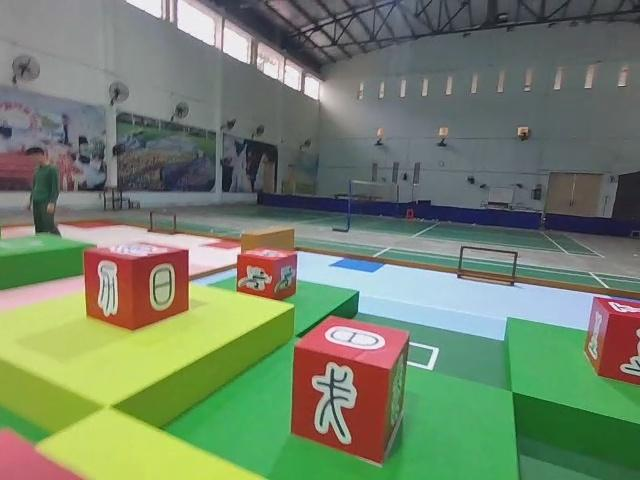R1: (235, 245, 299, 301)
R2 Fake: (289, 312, 413, 468), (81, 239, 192, 332)
R2 Real: (582, 292, 640, 390)
